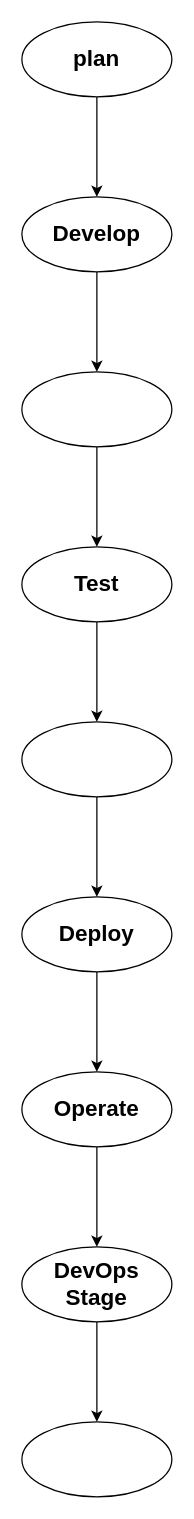
The diagram is 194 pixels wide and 1519 high, and some of its shapes have lost their labels. The centre of each missing label's shape, as x and y in pixels:
"Bulid" goes at point 96,409.
"Monitor" goes at point 96,1459.
"Release" goes at point 96,759.
